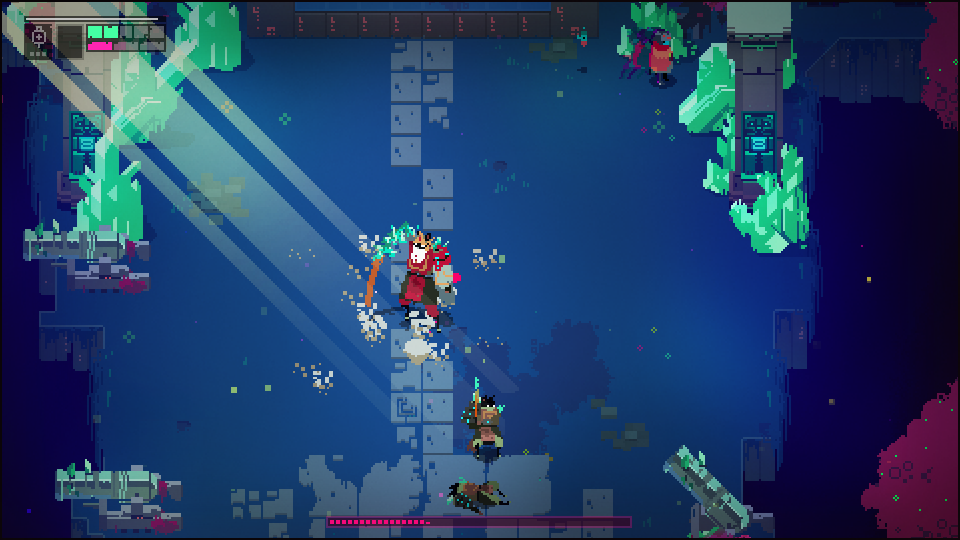hanged_man: (363, 223, 462, 323)
player: (645, 28, 678, 87)
